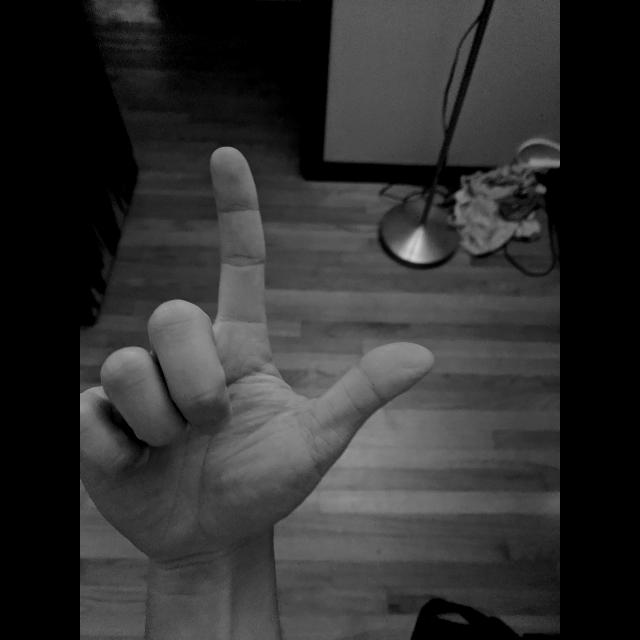L: (80, 138, 442, 568)
